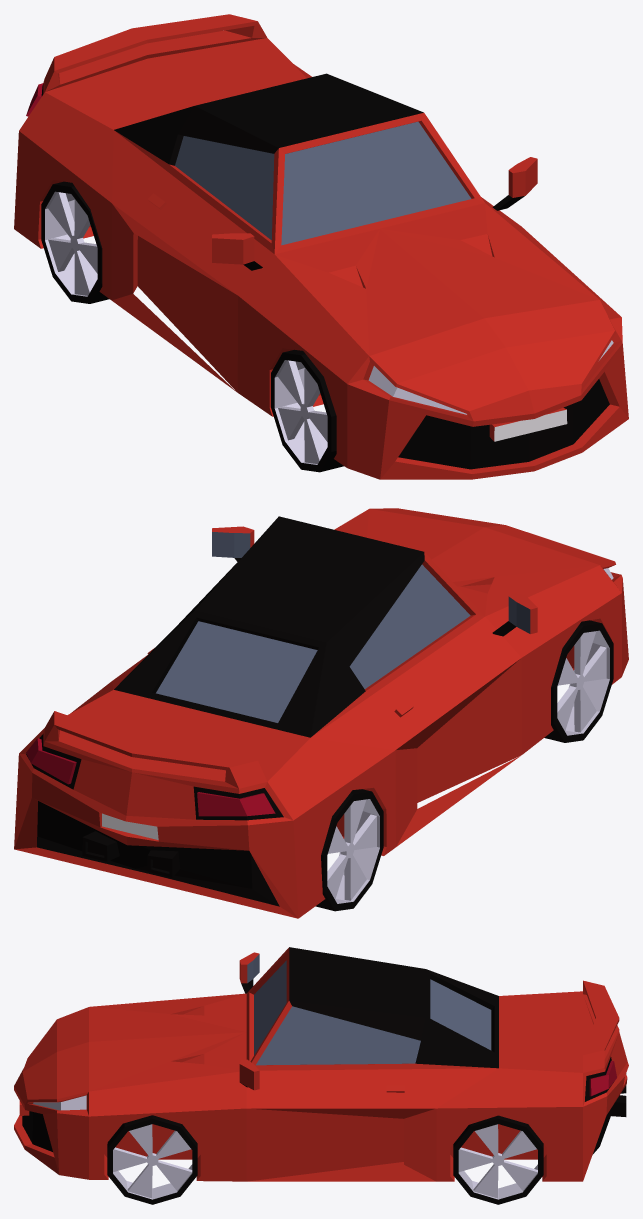
Rendered from Sports.gltf.
The picture shows the model from 3 angles, top to bottom: view 1: azimuth 30°, elevation 25°; view 2: azimuth 150°, elevation 25°; view 3: azimuth 270°, elevation 25°; orthographic projection. The views are drawn at different scales.
Parts seen in each view (by area): view 1: Sports, Sports wheel front right, Sports wheel rear right; view 2: Sports, Sports wheel front right, Sports wheel rear right; view 3: Sports, Sports wheel front left, Sports wheel rear left.
Boxes of the visible parts, left/top/right/bottom form: Sports: left=14, top=14, right=628, bottom=479; Sports wheel front right: left=271, top=349, right=343, bottom=472; Sports wheel rear right: left=41, top=181, right=109, bottom=303; Sports: left=14, top=508, right=628, bottom=918; Sports wheel front right: left=544, top=620, right=613, bottom=742; Sports wheel rear right: left=315, top=789, right=383, bottom=911; Sports: left=14, top=947, right=628, bottom=1181; Sports wheel front left: left=107, top=1115, right=197, bottom=1204; Sports wheel rear left: left=453, top=1115, right=543, bottom=1204.
Bounding box in the file's own units: 2.63 × 1.84 × 5.73.
